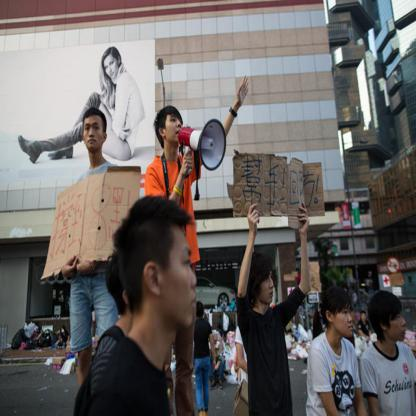face: (160, 230, 197, 328), (334, 301, 354, 337), (388, 303, 406, 341), (257, 267, 274, 303), (164, 111, 183, 142), (85, 120, 103, 150), (105, 58, 119, 80), (362, 314, 367, 323), (63, 328, 66, 333)
